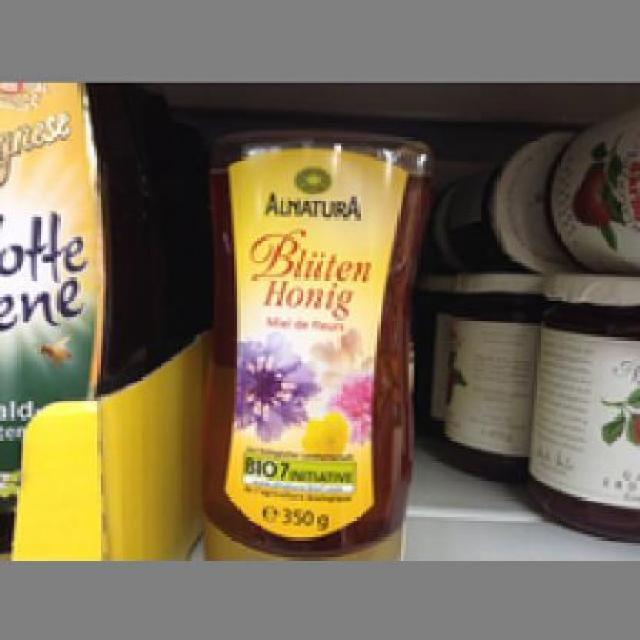Honey: (188, 126, 432, 560)
